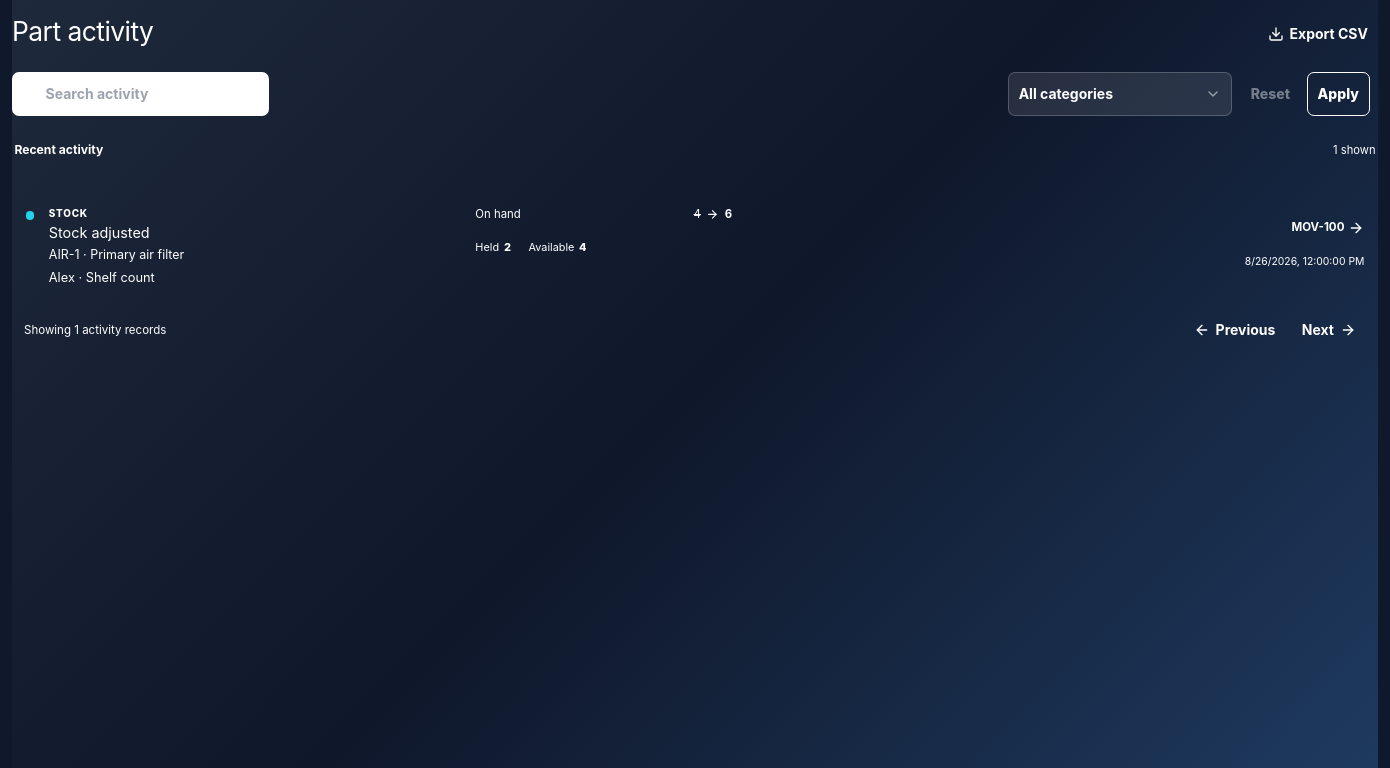
Test case: DB-045 inventory Activity workspace › keeps compact part activity focused on records while preserving filter controls
Expected: the heading "Stock adjusted" is shown, [49,224,150,242]
Step 1. Type "Shelf" into the search field → (140,94), box [12,72,269,116]
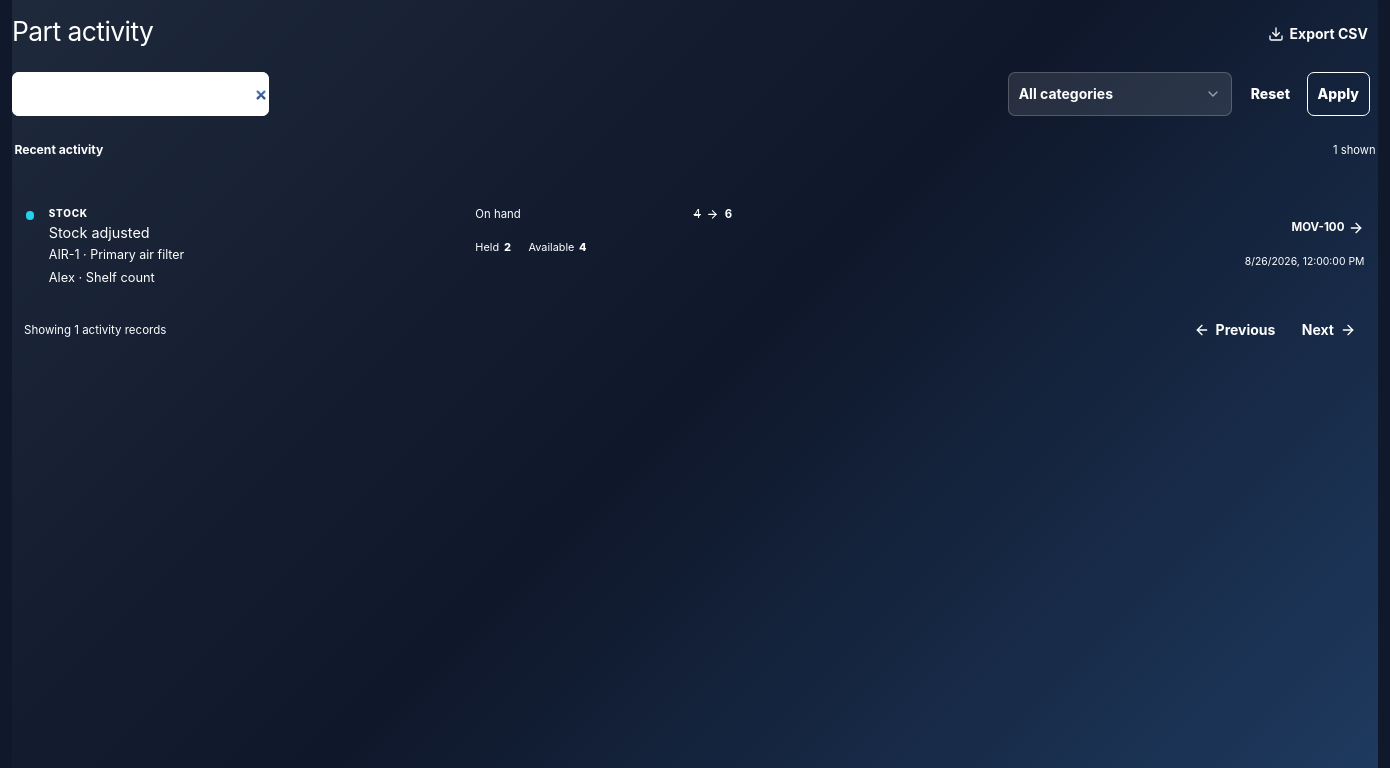
Step 2. Click the dropdown named "Category" → (1120,94), box [1008,72,1232,116]
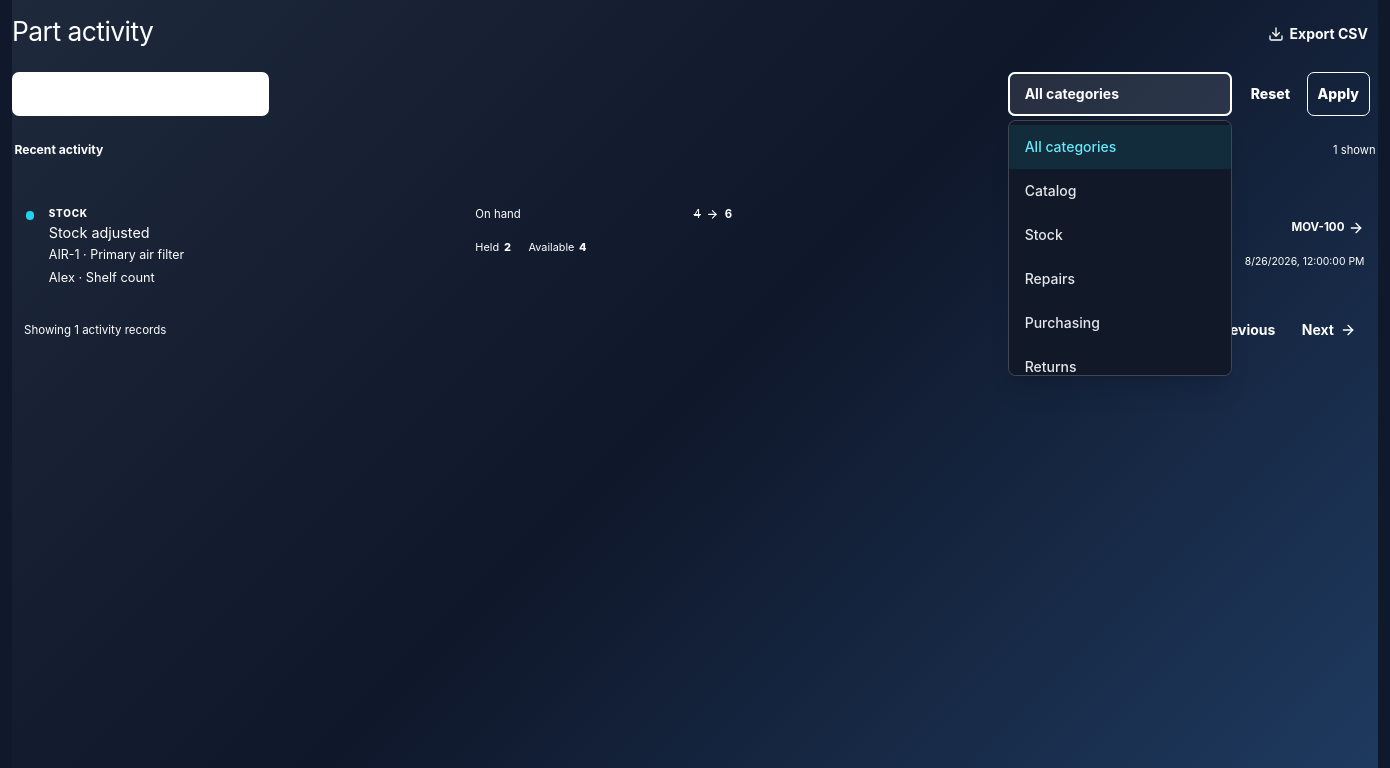
Step 3. Click the option "Stock" → (1120,235), box [1009,213,1231,257]
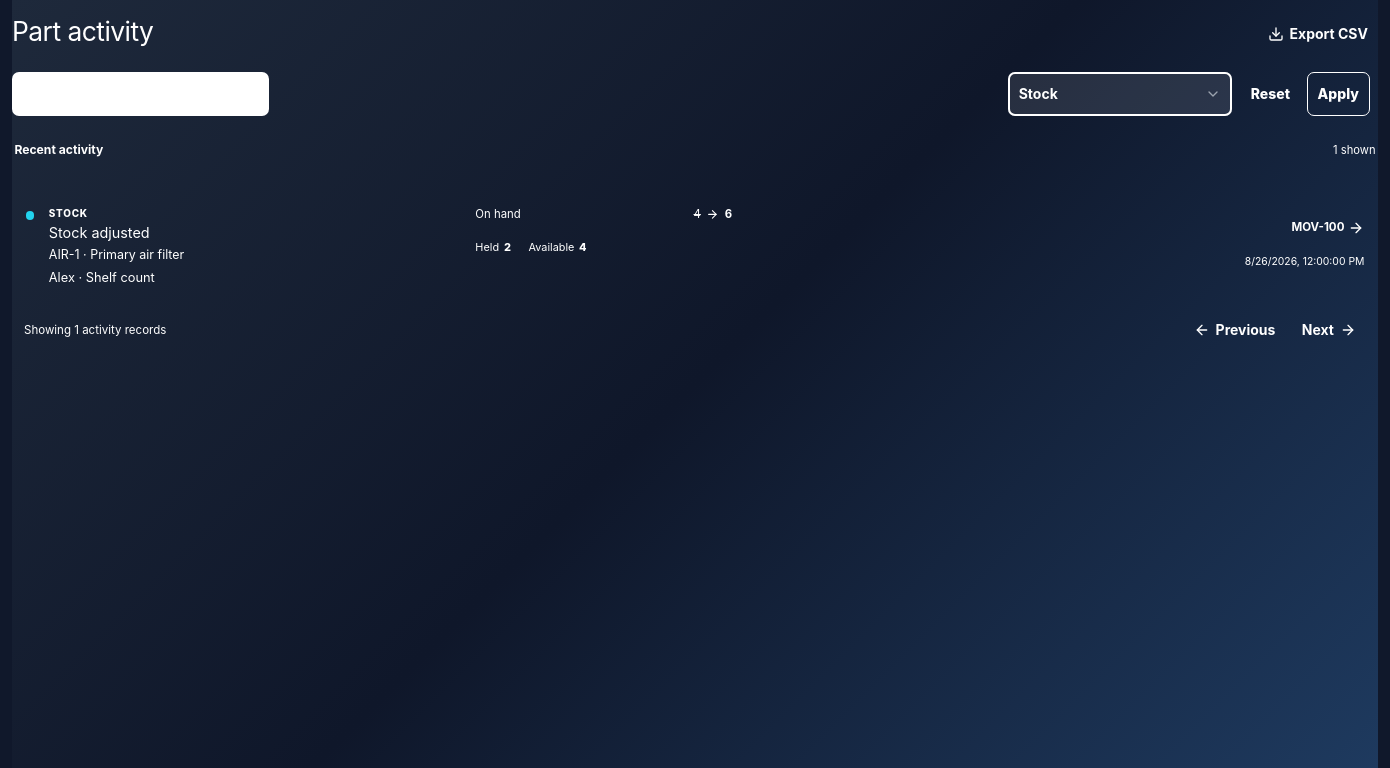
Step 4. Click the button "Apply" → (1338,94), box [1307,72,1370,116]
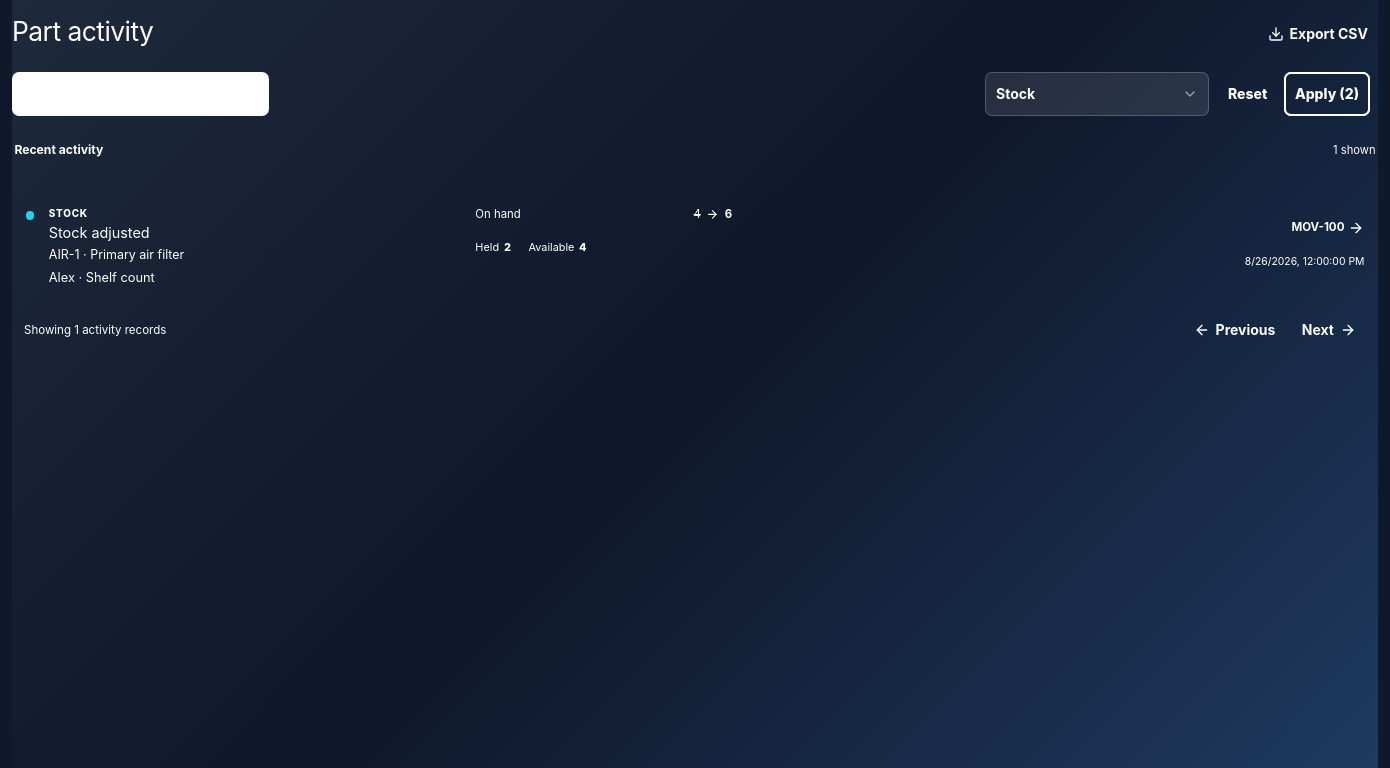
Step 5. Click the button "Reset" → (1248,94), box [1217,72,1278,116]
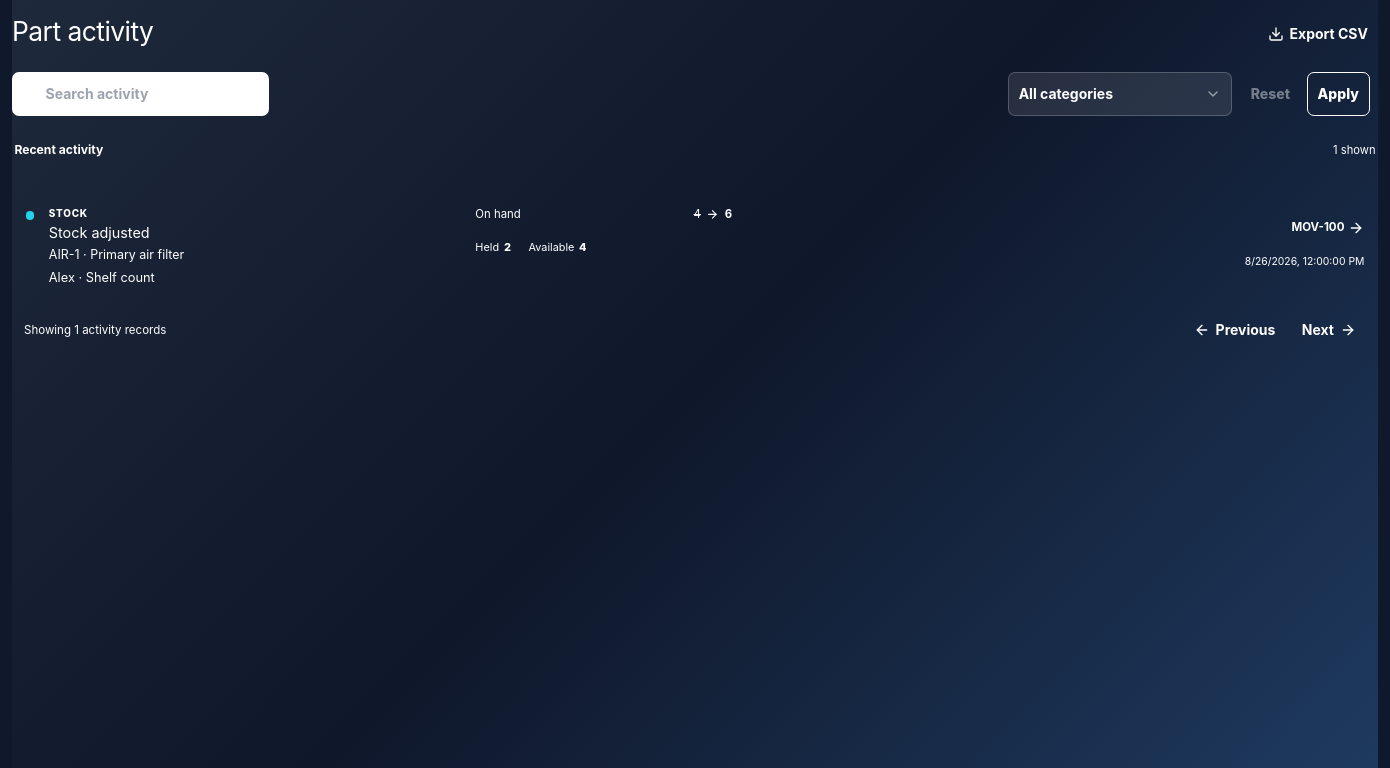
Expected: the button "Export CSV" is enabled, [1258,12,1378,56]
Expected: the search field is empty, [12,72,269,116]
